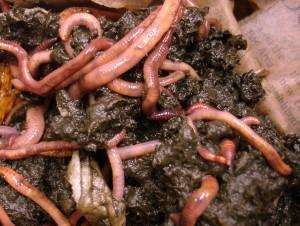earthworms: (3, 5, 289, 216)
